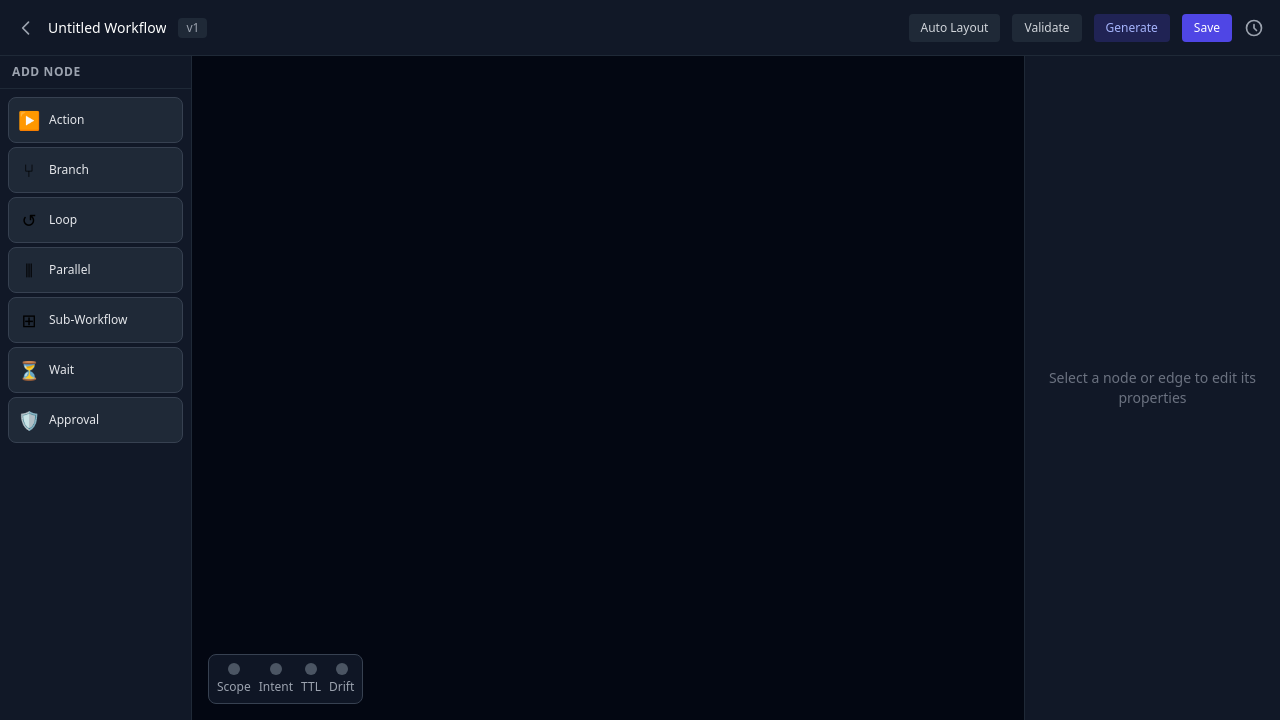
Test: WorkflowEditor › NL Generate modal opens when Generate button clicked
Expected: the text "Describe what this workflow should do" is not shown
Click the button "Generate".
click(1132, 28)  # box [1094,14,1170,42]
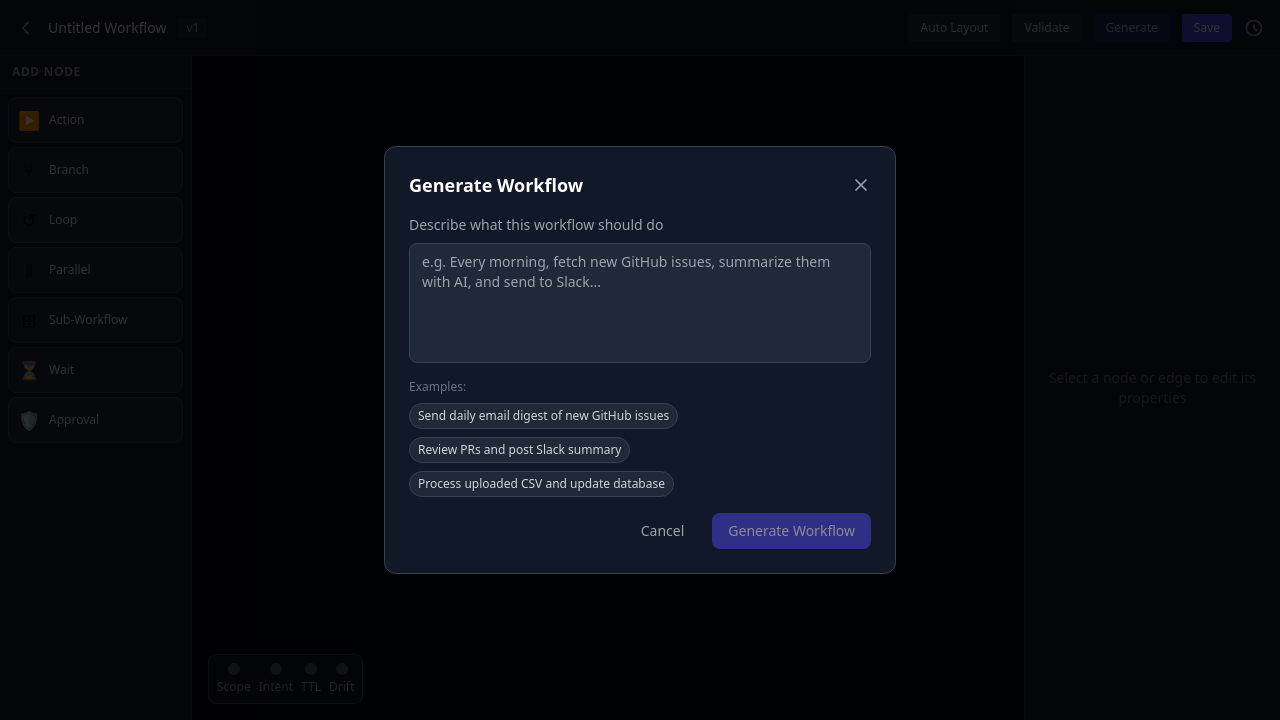
Expected: the text "Describe what this workflow should do" is shown, [409,215,663,234]
